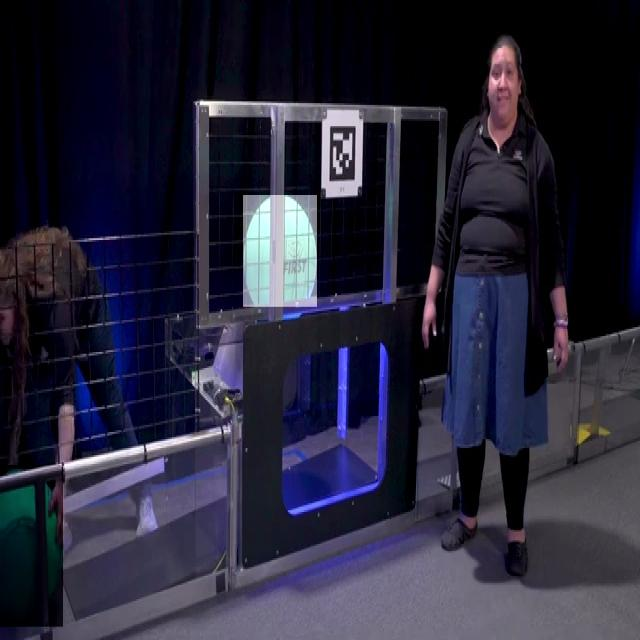Algae: (0, 466, 63, 628), (243, 195, 317, 308)
